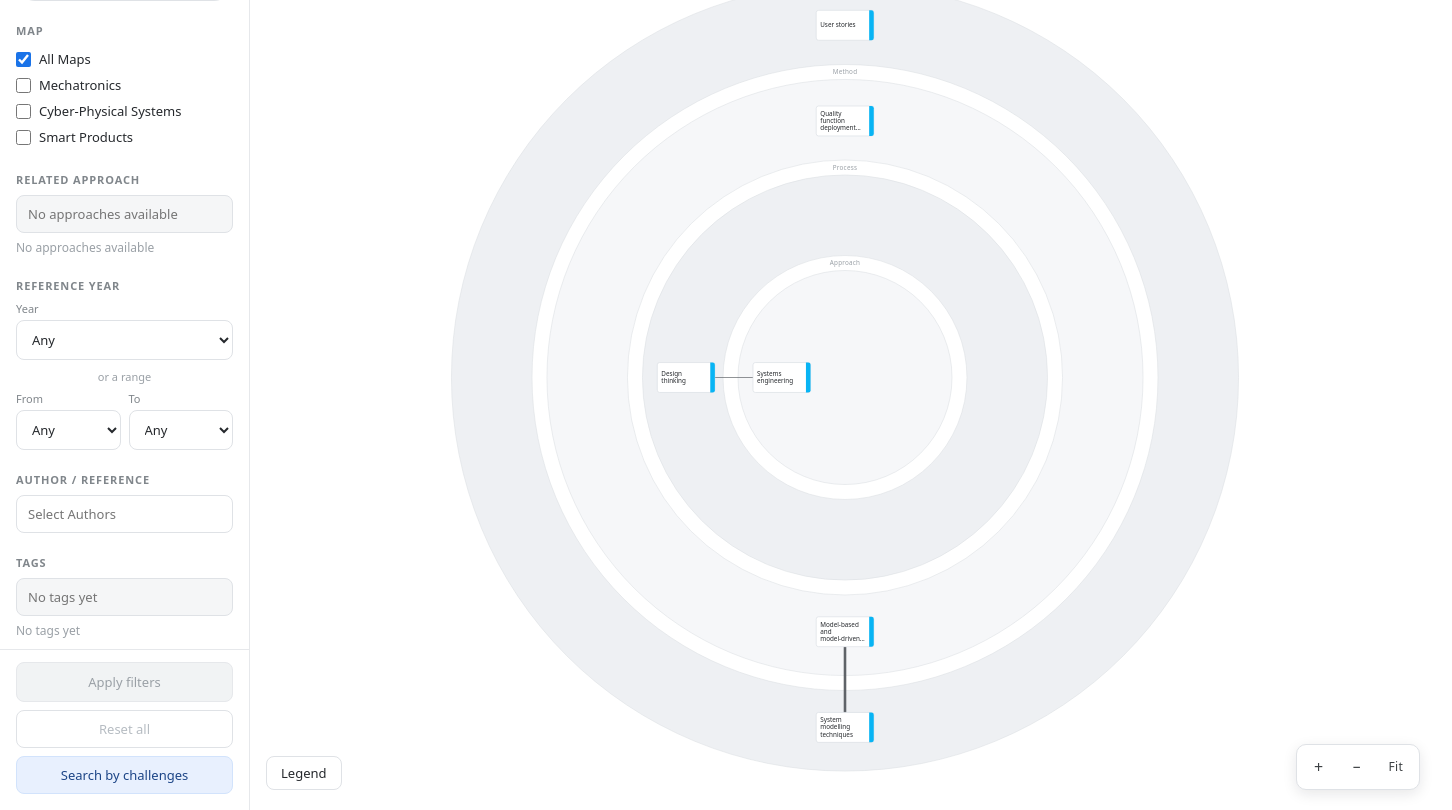
Test: the challenge list › hides a challenge nothing is mapped to
(page scrolled)
Click the button "Search by challenges": coordinates (124, 775) [16,756,233,794]
(page scrolled)
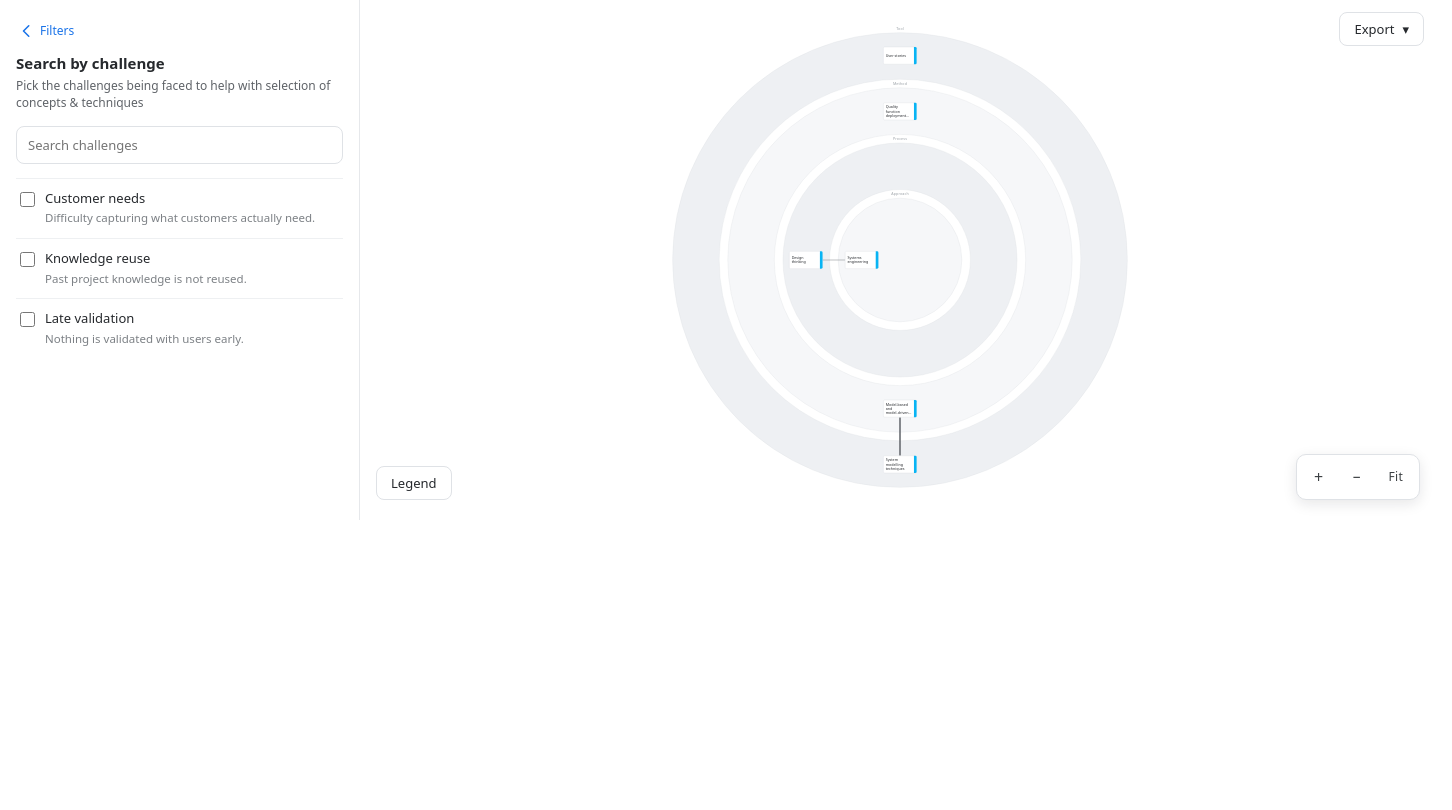
expect the text "Customer needs" is shown: met, box [45,189,145,207]
expect the text "Knowledge reuse" is shown: met, box [45,249,150,267]
